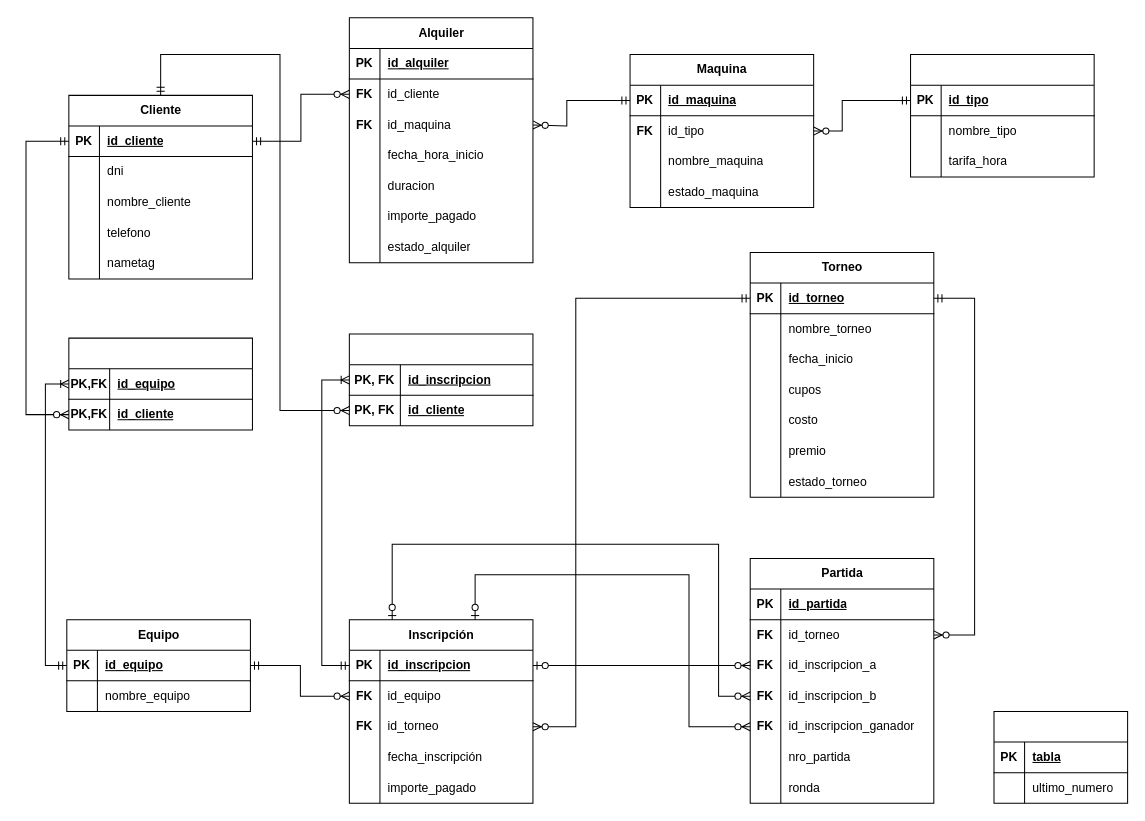
This 1145x821 diagram has some shape labels left out. Each missing label, with the box of its shape:
ContadorId: (993, 710, 1128, 803)
IntegranteInscripcion: (348, 333, 533, 426)
MiembroEquipo: (68, 337, 252, 430)
TipoMaquina: (910, 54, 1094, 177)
